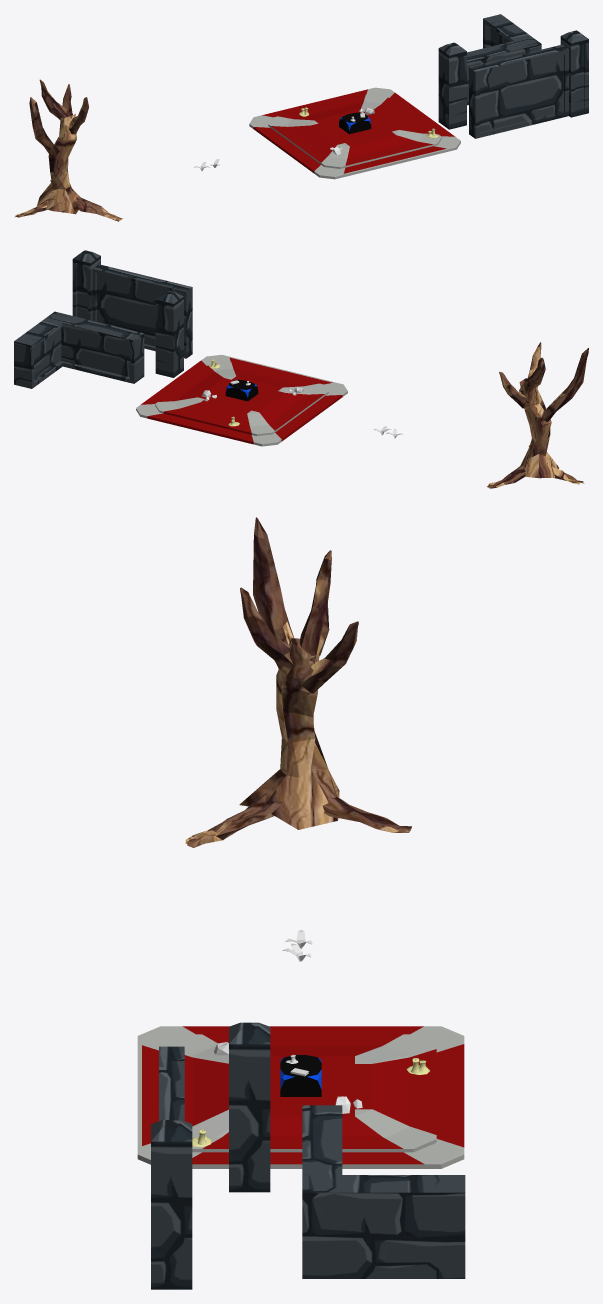
Rendered from newSecnegame.fbx.
3 renders of one model, top to bottom at view 1: azimuth 30°, elevation 25°; view 2: azimuth 150°, elevation 25°; view 3: azimuth 270°, elevation 25°, orthographic. The views are drawn at different scales.
Parts seen in each view (by area): view 1: Cube, Cube.001, Cube.009, Cube.003, Cube.002, Cube.006; view 2: Cube, Cube.002, Cube.001, Cube.009, Cube.003, Cube.006; view 3: Cube, Cube.002, Cube.009, Cube.001, Cube.003, Cube.006.
Part boxes in pixels (bbox=[...]): Cube: bbox=[249, 87, 460, 179]; Cube.001: bbox=[469, 30, 588, 138]; Cube.009: bbox=[14, 79, 122, 221]; Cube.003: bbox=[438, 42, 466, 129]; Cube.002: bbox=[467, 14, 541, 105]; Cube.006: bbox=[339, 112, 371, 134]; Cube: bbox=[136, 354, 347, 446]; Cube.002: bbox=[14, 311, 144, 388]; Cube.001: bbox=[72, 250, 192, 358]; Cube.009: bbox=[487, 342, 588, 488]; Cube.003: bbox=[155, 291, 183, 377]; Cube.006: bbox=[225, 379, 258, 401]; Cube: bbox=[137, 1026, 464, 1168]; Cube.002: bbox=[302, 1105, 465, 1278]; Cube.009: bbox=[185, 517, 411, 847]; Cube.001: bbox=[151, 1046, 192, 1289]; Cube.003: bbox=[229, 1022, 270, 1192]; Cube.006: bbox=[280, 1055, 321, 1096].
Bounding box in the file's own units: 6004 × 1377 × 1581.
8 materials, 2 textured.
